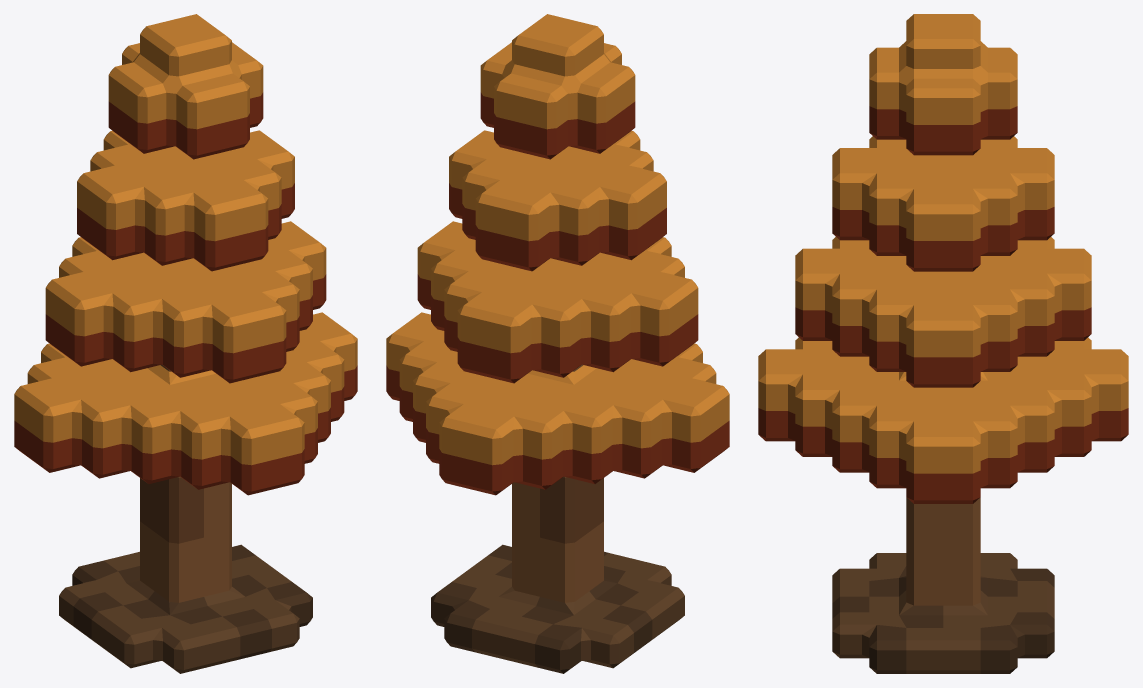
The model's file is prop_sapling_2_voxel.fbx.
3 views of the same model, side by side, from view 1: azimuth 30°, elevation 25°; view 2: azimuth 150°, elevation 25°; view 3: azimuth 270°, elevation 25° (orthographic).
Visible parts, largest first — view 1: prop_sapling_2_voxel; view 2: prop_sapling_2_voxel; view 3: prop_sapling_2_voxel.
Part boxes in pixels (bbox=[...]): prop_sapling_2_voxel: bbox=[14, 14, 357, 673]; prop_sapling_2_voxel: bbox=[386, 14, 729, 673]; prop_sapling_2_voxel: bbox=[758, 14, 1128, 673].
Size of the model in its own units: 0.8 by 1.44 by 0.8.
